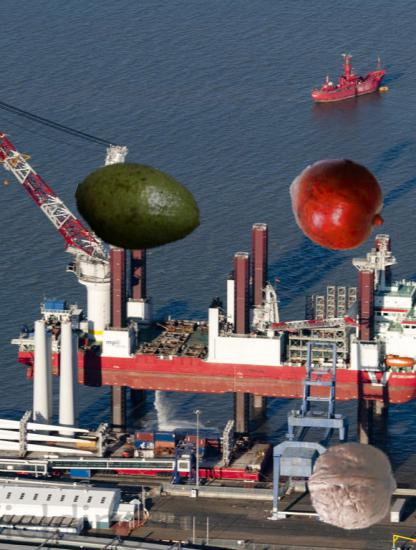Avocado: (74, 145, 202, 273)
Mango: (286, 153, 388, 255)
Walnut: (306, 440, 398, 532)
